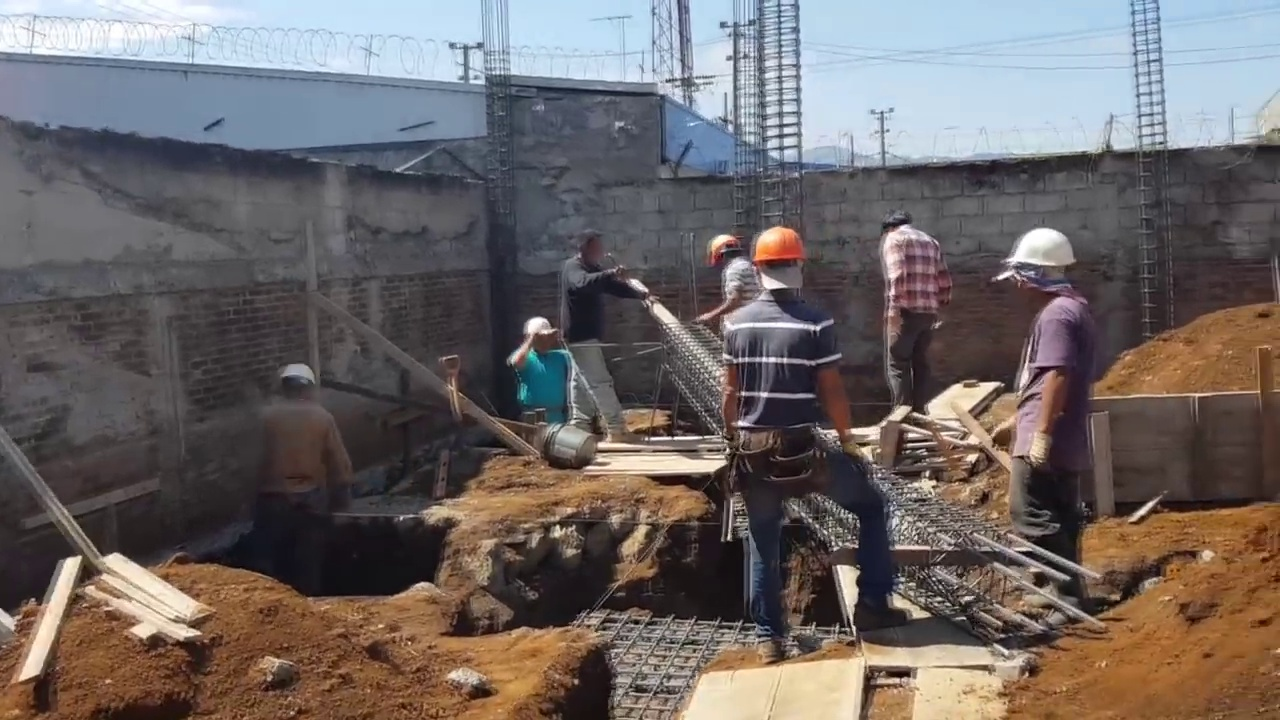helmet: (1003, 229, 1079, 275), (752, 227, 811, 269), (707, 237, 740, 264), (279, 364, 316, 385), (523, 315, 555, 339)
helmet-off: (573, 232, 606, 265), (885, 210, 920, 239)
helmet-on: (1000, 227, 1080, 297), (753, 229, 811, 297), (276, 362, 320, 402), (523, 315, 557, 358), (706, 236, 747, 271)
person: (718, 227, 864, 634), (999, 225, 1103, 620), (245, 361, 345, 578), (557, 234, 651, 428), (878, 209, 955, 414), (506, 311, 569, 433), (699, 230, 766, 326)
